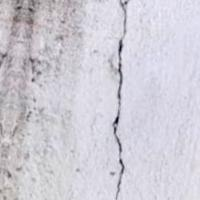crack: (92, 0, 143, 194)
